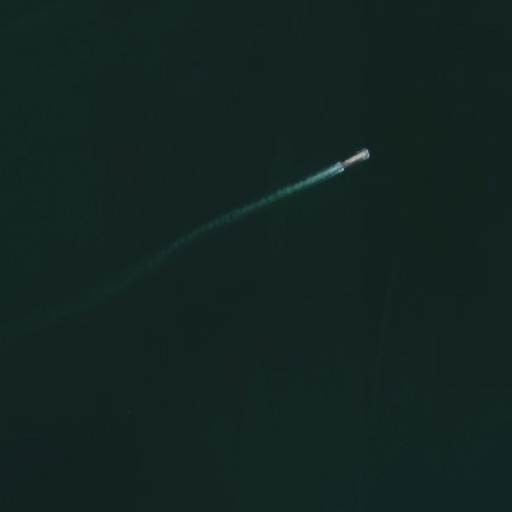ship: (335, 144, 372, 171)
